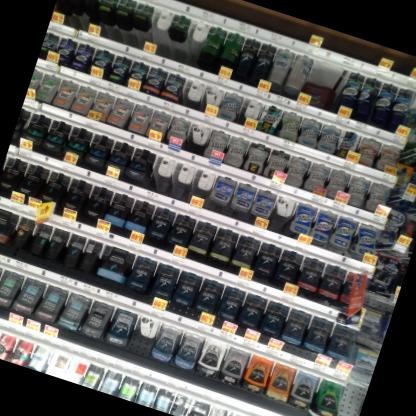empty_space: (178, 20, 210, 69), (141, 8, 173, 56), (332, 385, 367, 416), (183, 123, 211, 156), (196, 85, 224, 117), (179, 79, 204, 110), (48, 353, 74, 381), (66, 359, 87, 386)
